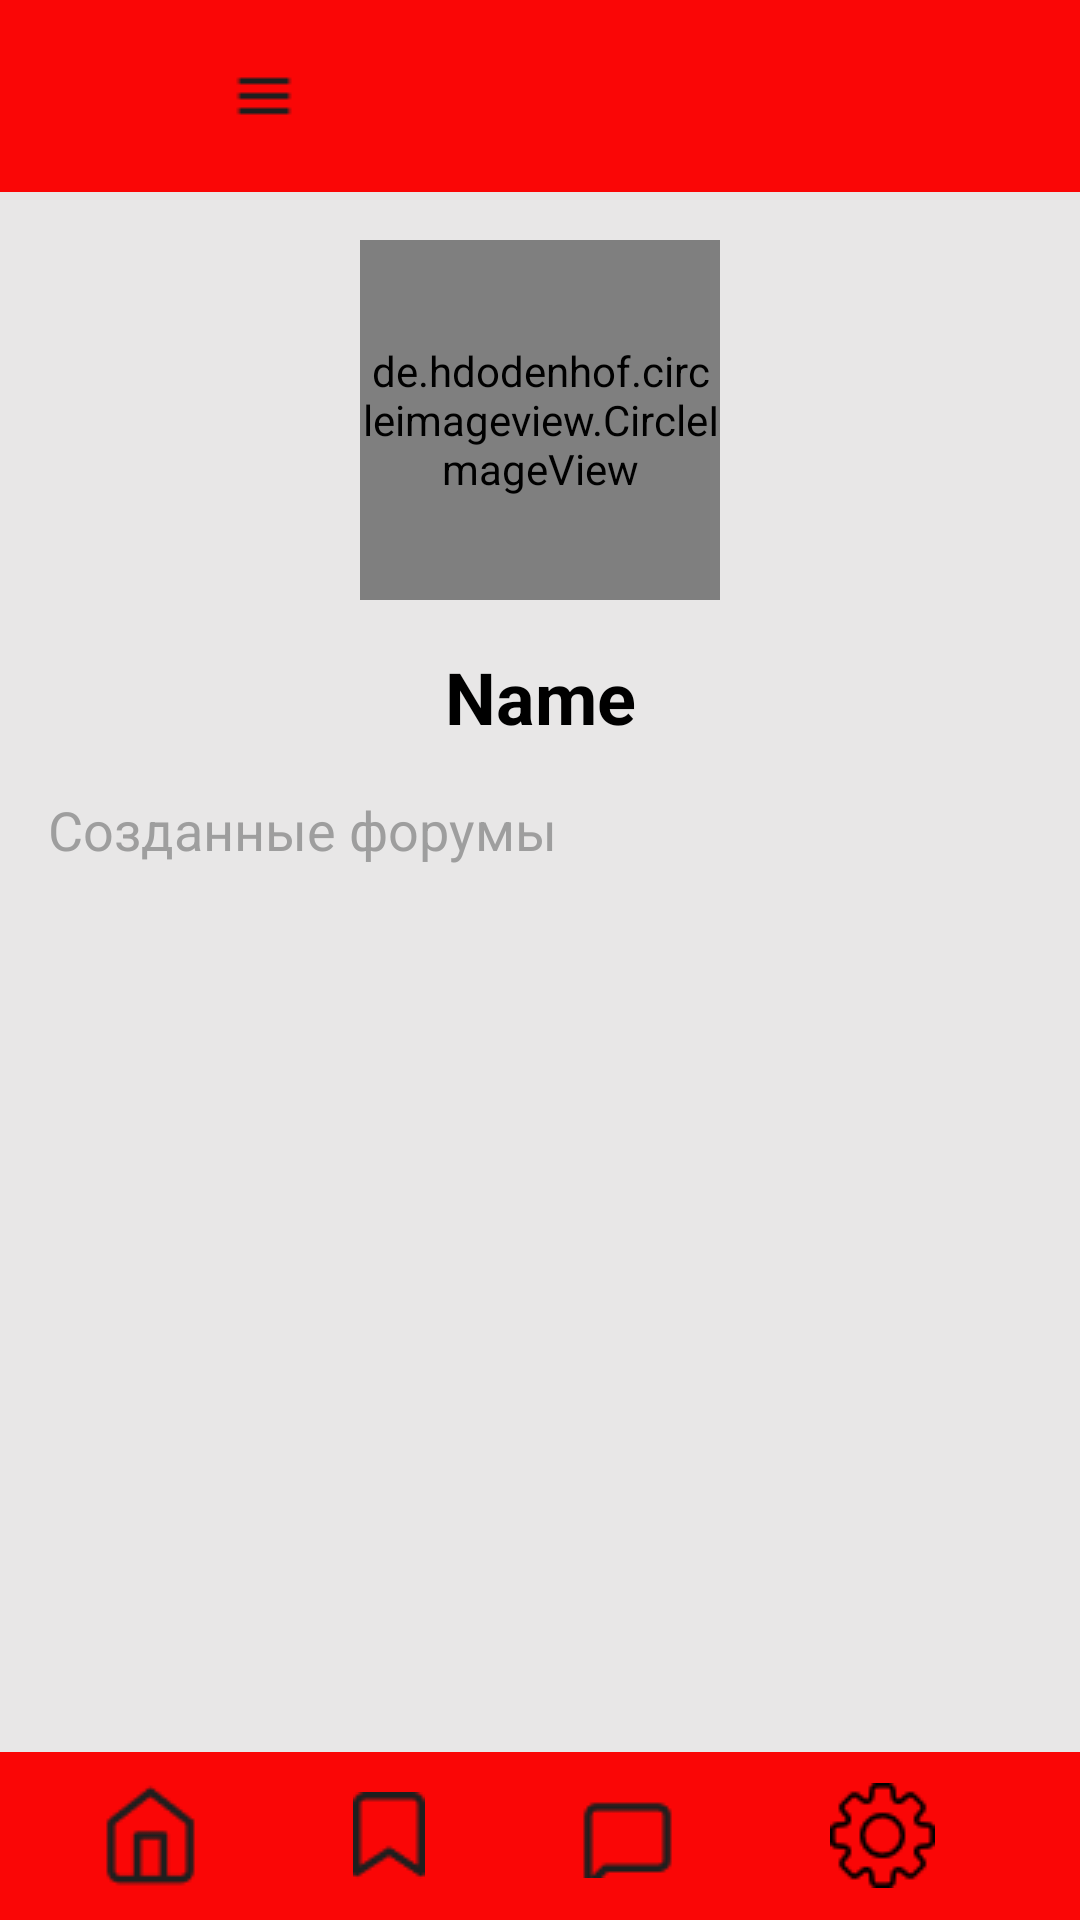

Named icons in this screenshot (1080*1920) and their centers, (x,y):
setting: (882,1835)
